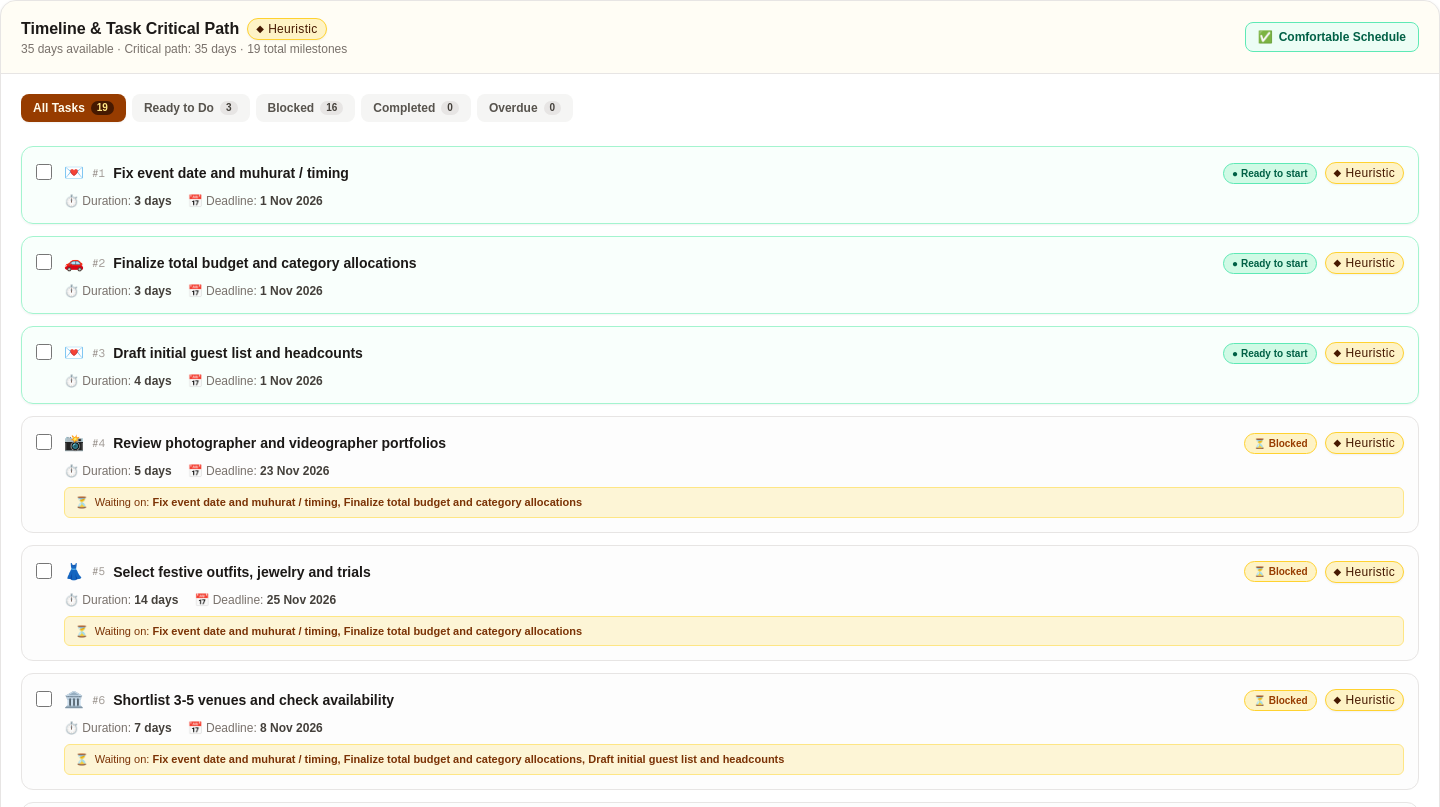
Scenario: TimelineTab Component › filters tasks by status pill
The width and height of the screenshot is (1440, 807).
# Click "Ready to Do"
Click the button "Ready to Do 3" at (191, 108), box left=132, top=94, right=250, bottom=122
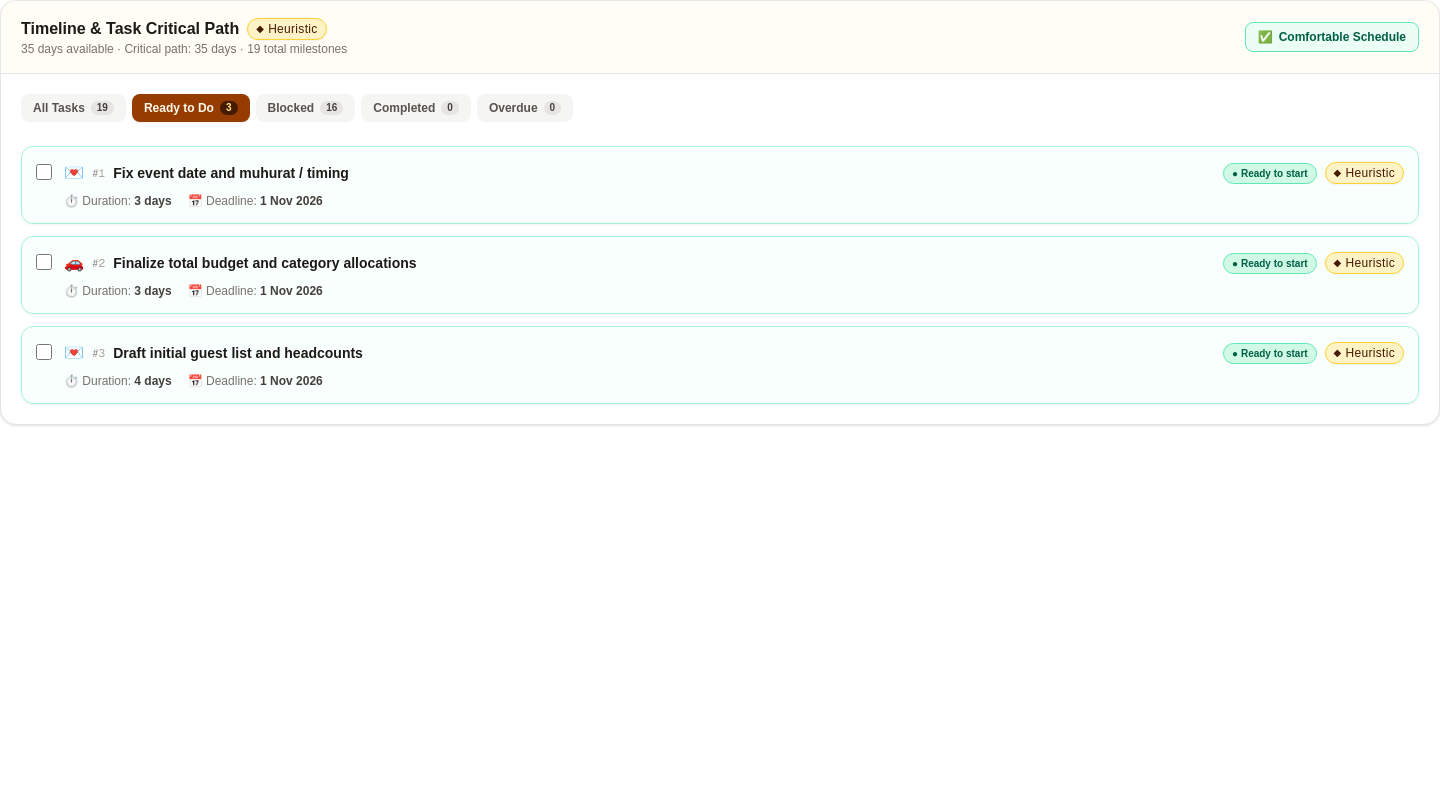
# Click "Blocked"
Click the button "Blocked 16" at (305, 108), box left=256, top=94, right=355, bottom=122
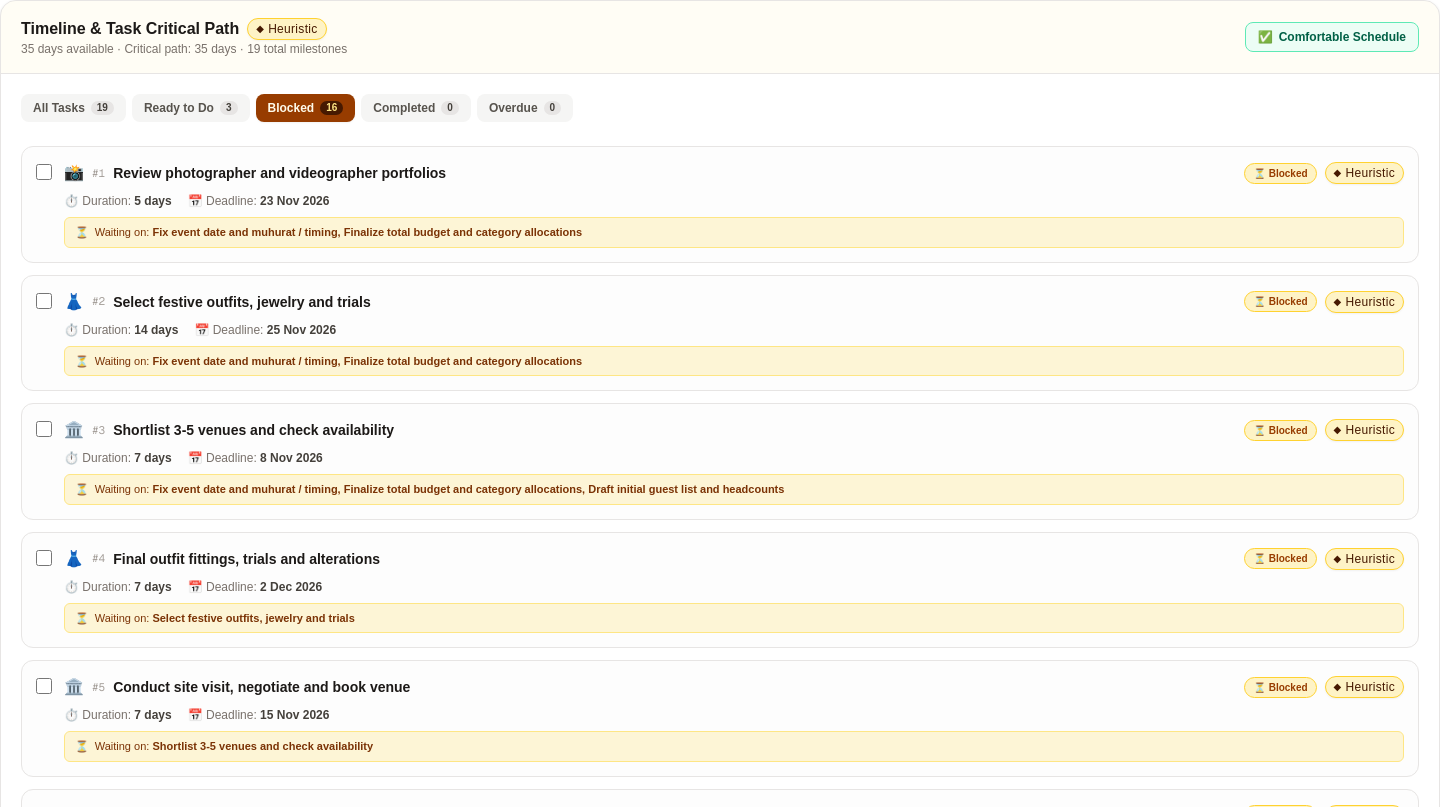
# Click "All Tasks"
Click the button "All Tasks 19" at (73, 108), box left=21, top=94, right=126, bottom=122
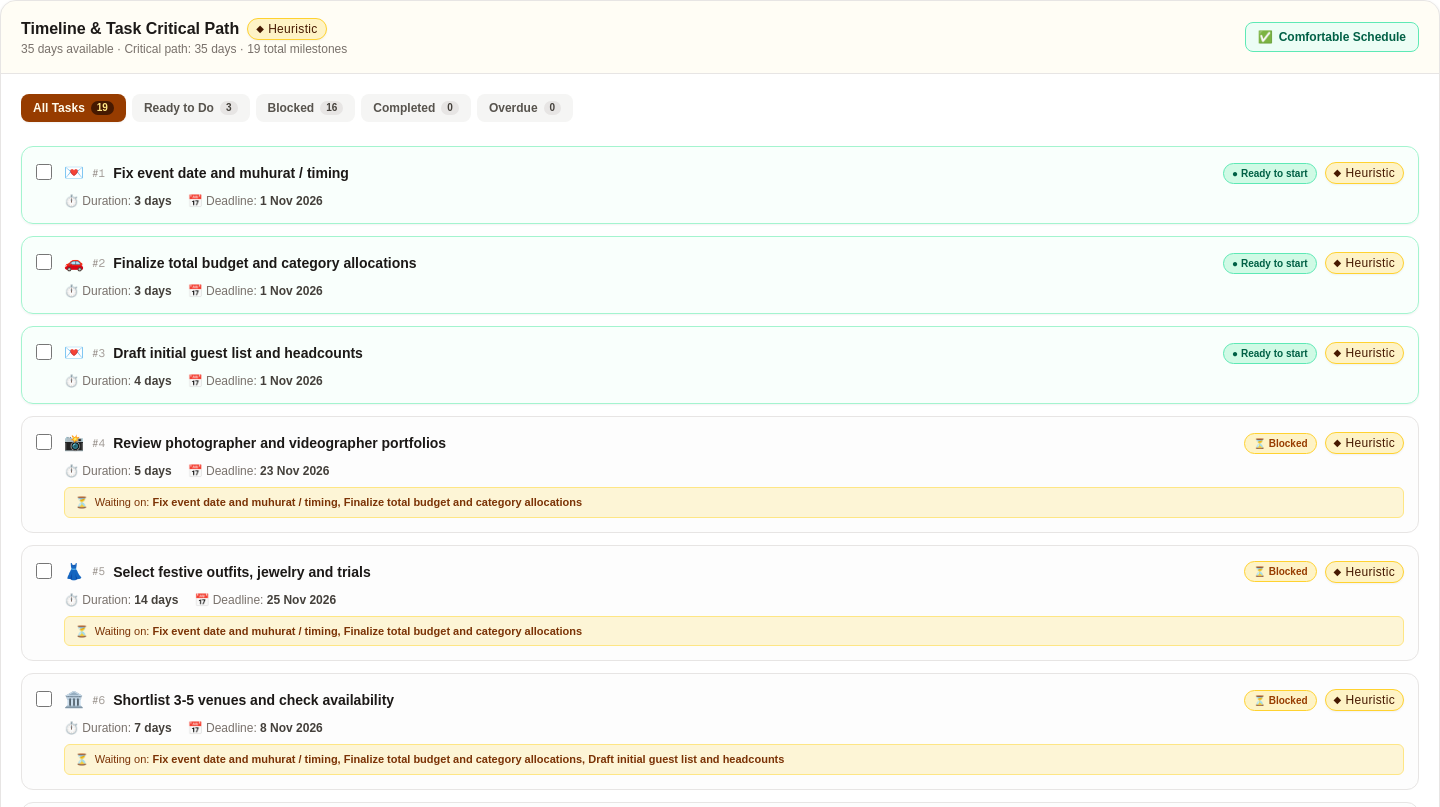
Result: the text "Draft initial guest list and headcounts" is shown at left=113, top=343, right=363, bottom=363
